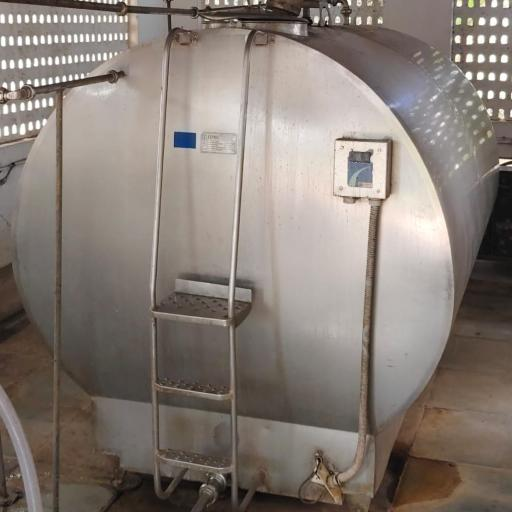silo: (11, 19, 509, 495)
